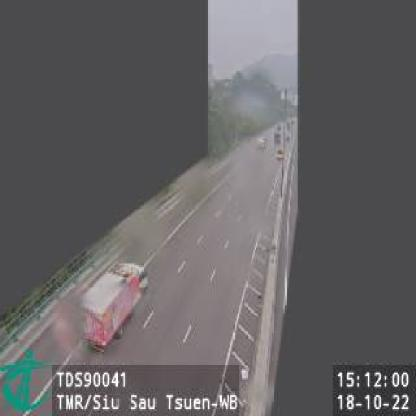Car: (258, 138, 267, 151), (275, 147, 284, 159)
Truck: (80, 261, 152, 351)
